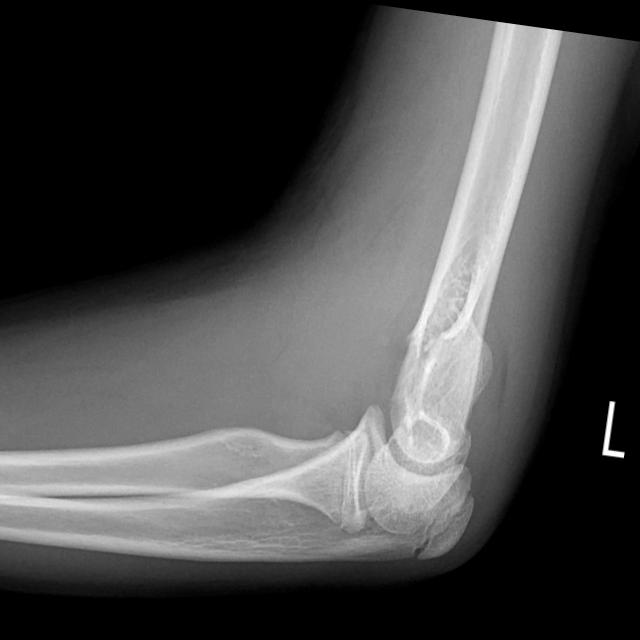elbow positive: (390, 484, 500, 575)
